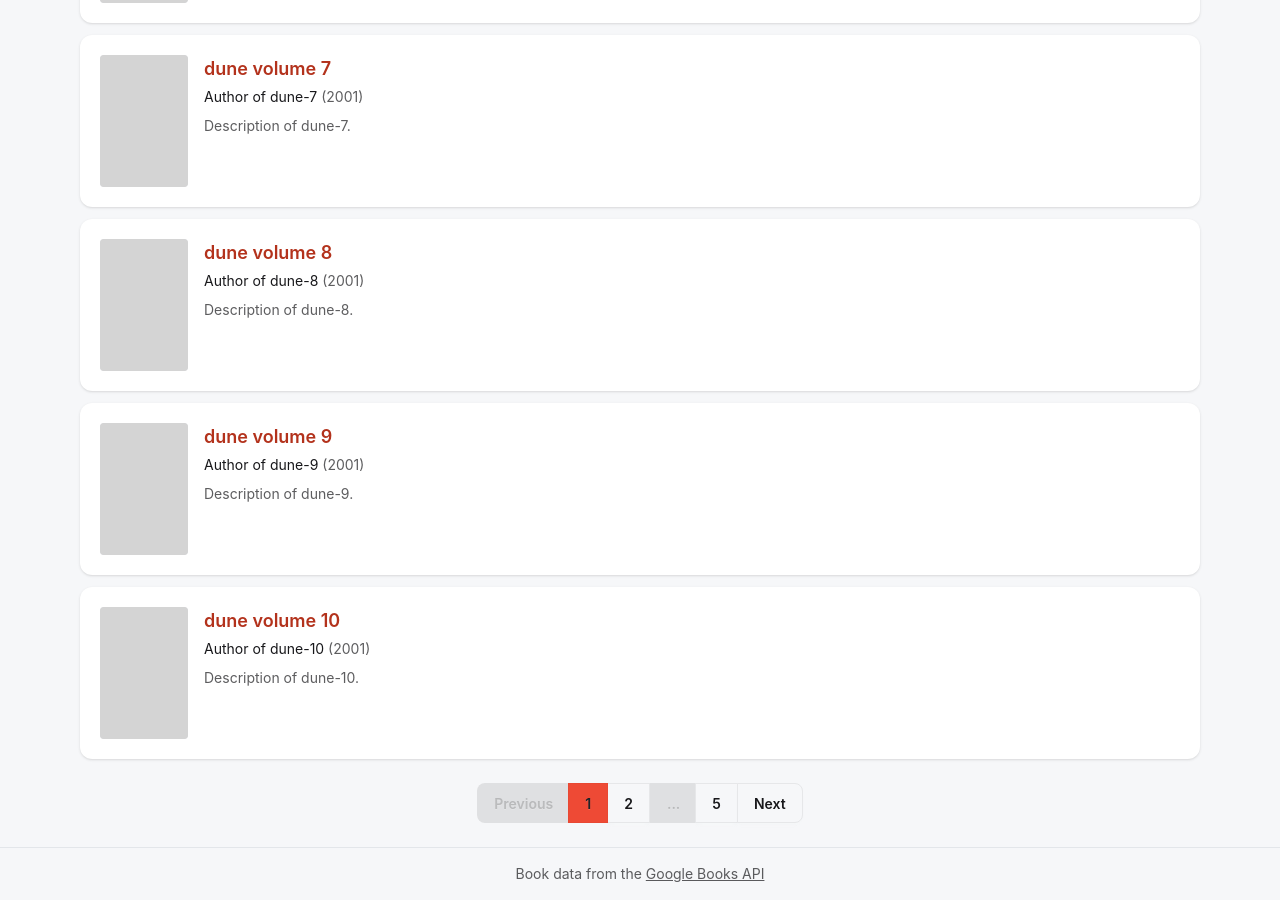
it: Search page › pagination › derives the number of pages from the total and moves between them
(page scrolled)
Check: the link named "Page 5" is shown, box [695, 783, 738, 823]
Click the link with aria-label "Next page": (770, 803) [737, 783, 803, 823]
(page scrolled)
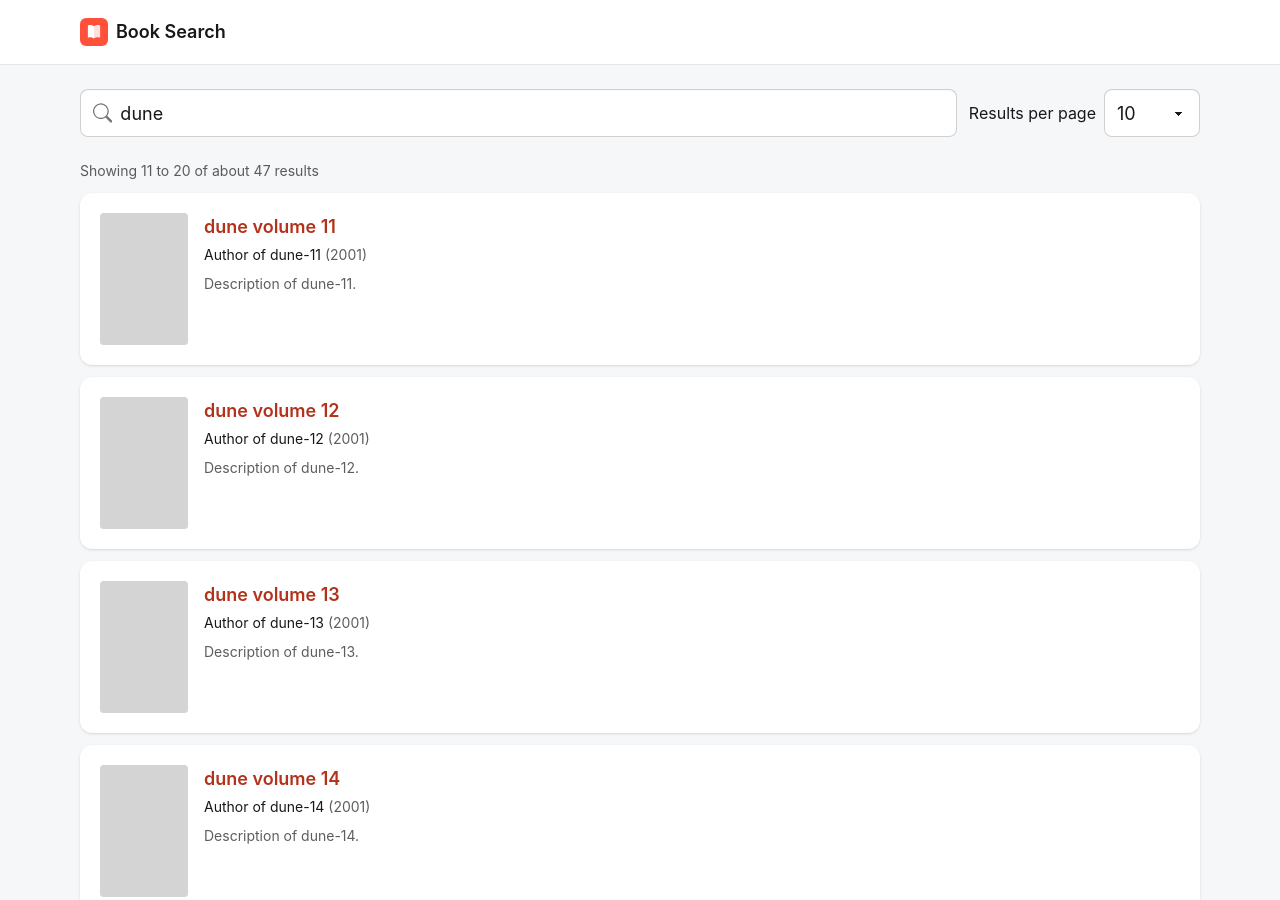
Check: the link "dune volume 11" is shown, box [204, 216, 336, 237]
Check: the text "Showing 11 to 20 of about 47 results" is shown, box [80, 162, 319, 179]
